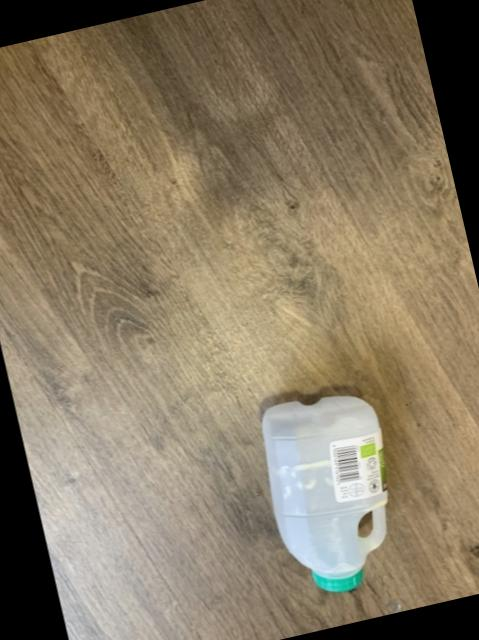plastic: (263, 397, 388, 592)
